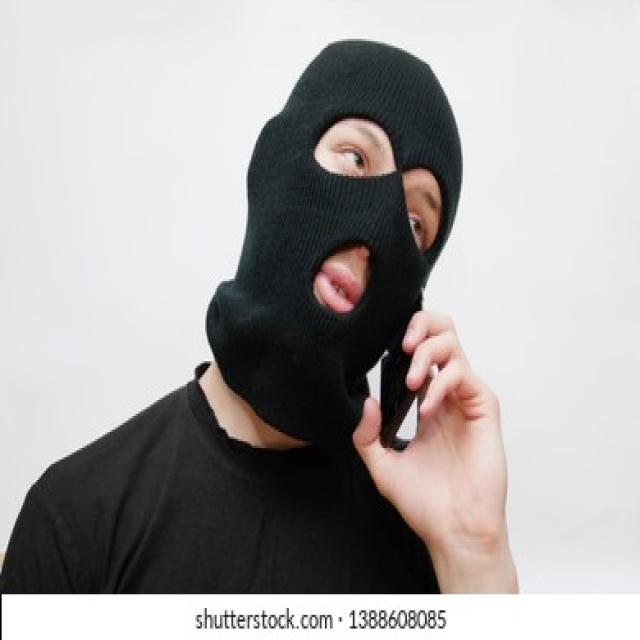6_pasamontana: (205, 35, 465, 446)
